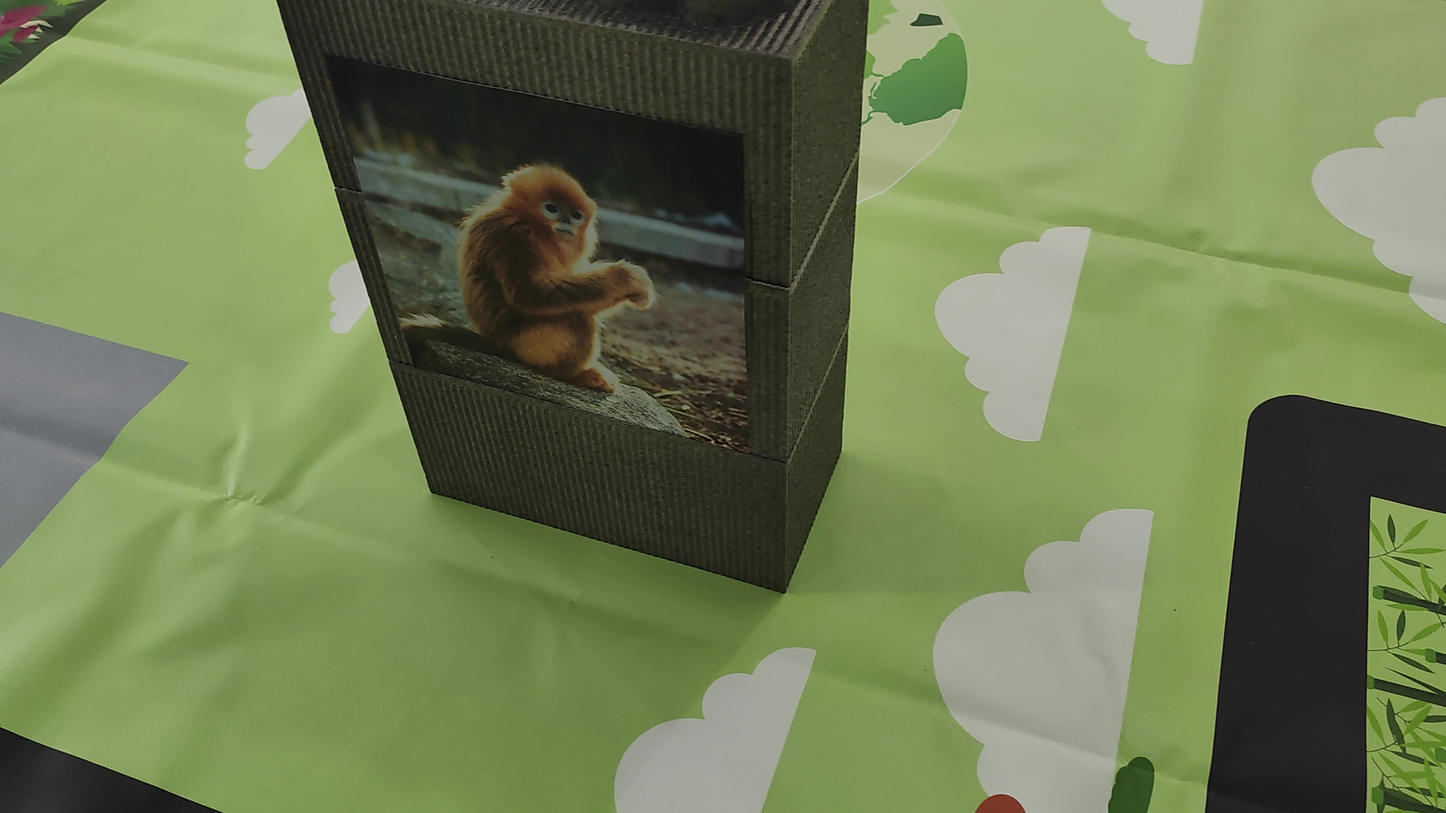monkey: (390, 113, 716, 416)
